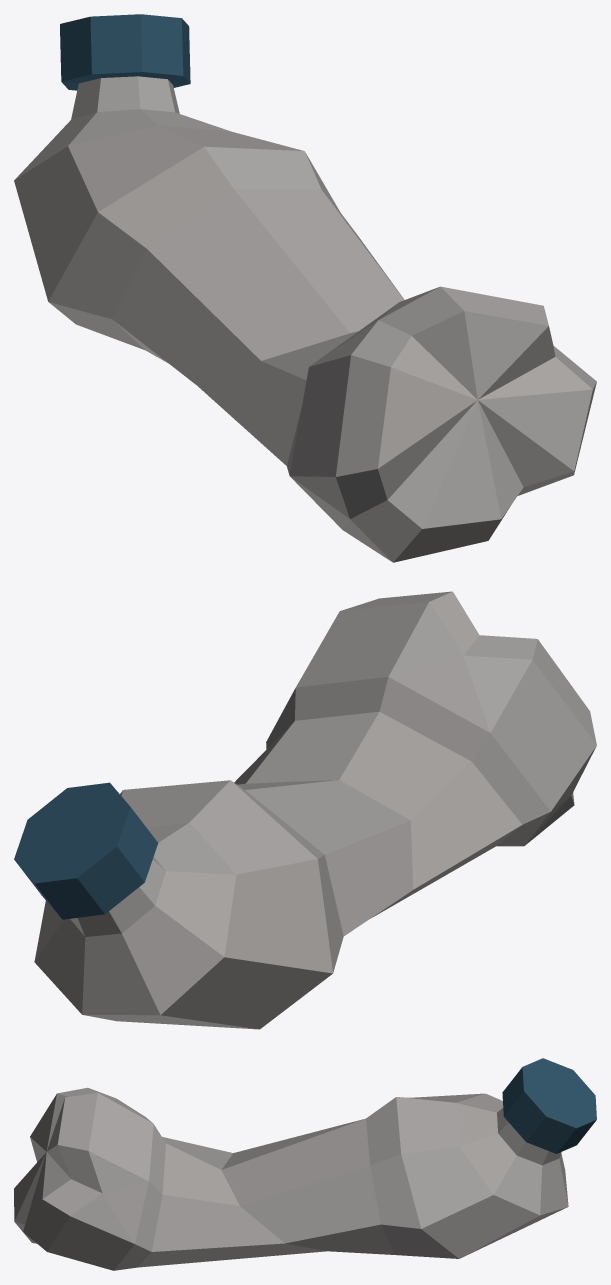
The model's file is SM_Prop_Rubbish_Bottle_03.fbx.
3 renders of one model, top to bottom at view 1: azimuth 30°, elevation 25°; view 2: azimuth 150°, elevation 25°; view 3: azimuth 270°, elevation 25°, orthographic. The views are drawn at different scales.
Visible parts, largest first — view 1: SM_Prop_Rubbish_Bottle_03; view 2: SM_Prop_Rubbish_Bottle_03; view 3: SM_Prop_Rubbish_Bottle_03.
Part boxes in pixels (left/top/right/bottom): SM_Prop_Rubbish_Bottle_03: left=14, top=14, right=596, bottom=562; SM_Prop_Rubbish_Bottle_03: left=14, top=591, right=596, bottom=1029; SM_Prop_Rubbish_Bottle_03: left=14, top=1058, right=596, bottom=1270.
Size of the model in its own units: 15.05 by 13.36 by 38.97.
